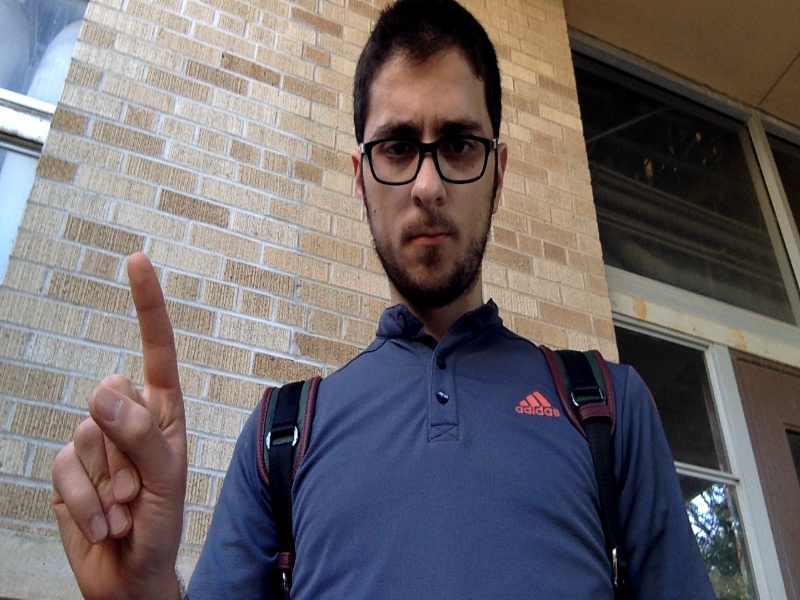1-hand: (53, 253, 185, 600)
